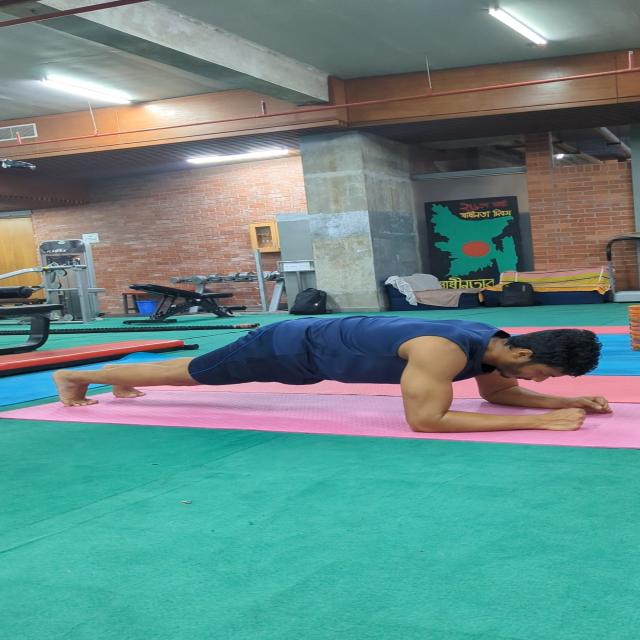Normal_Plunk: (42, 306, 624, 434)
